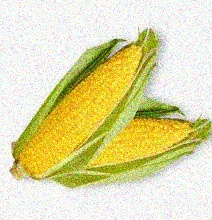corn: (12, 34, 155, 182), (53, 119, 208, 186)
